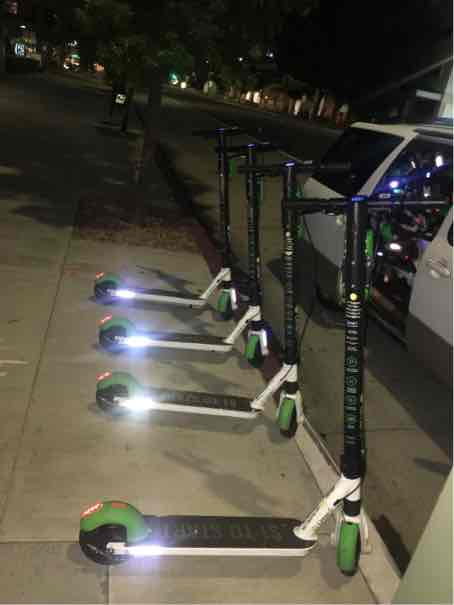too close: (303, 478, 399, 587), (251, 374, 337, 454), (228, 318, 287, 374)
